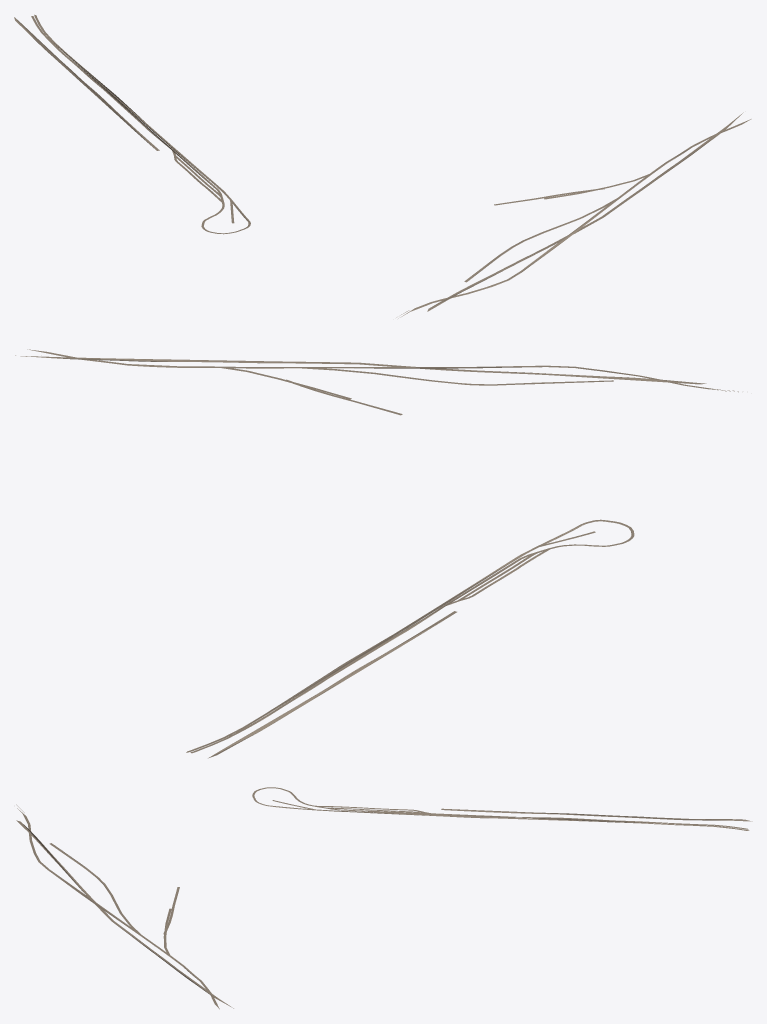
The model's file is rail_2_2.glb.
The picture shows the model from 3 angles, top to bottom: view 1: azimuth 30°, elevation 25°; view 2: azimuth 150°, elevation 25°; view 3: azimuth 270°, elevation 25°; orthographic projection. The views are drawn at different scales.
Parts seen in each view (by area): view 1: geometry_0; view 2: geometry_0; view 3: geometry_0.
Boxes of the visible parts, x1,y1,x2,y2 form: geometry_0: [14, 14, 751, 318]; geometry_0: [15, 349, 738, 758]; geometry_0: [16, 787, 752, 1009].
Size of the model in its own units: 747 by 12.98 by 1021.
